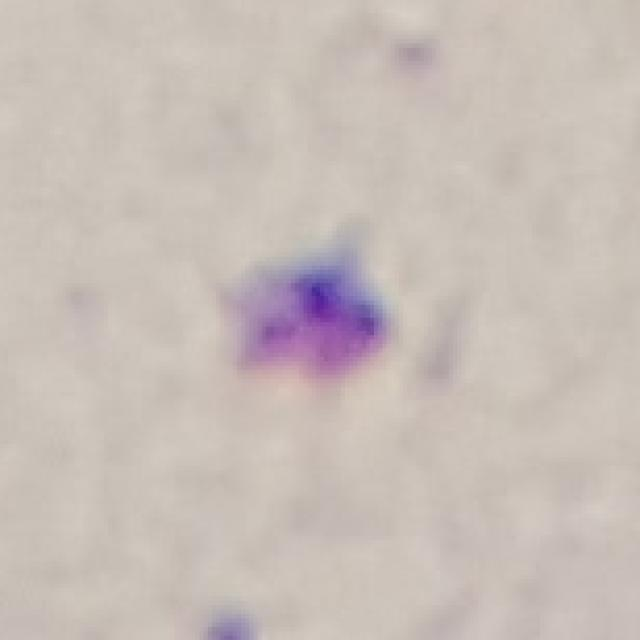non-sperm: (207, 243, 426, 394)
